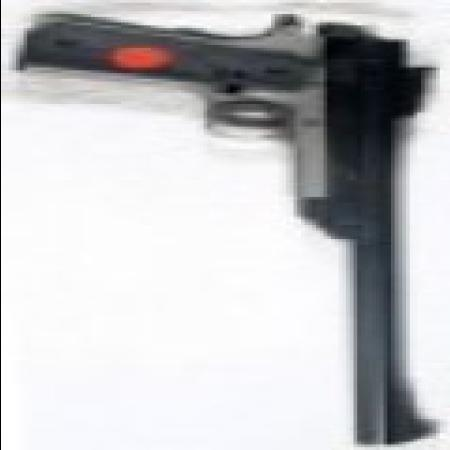Pistol: (19, 5, 442, 441)
